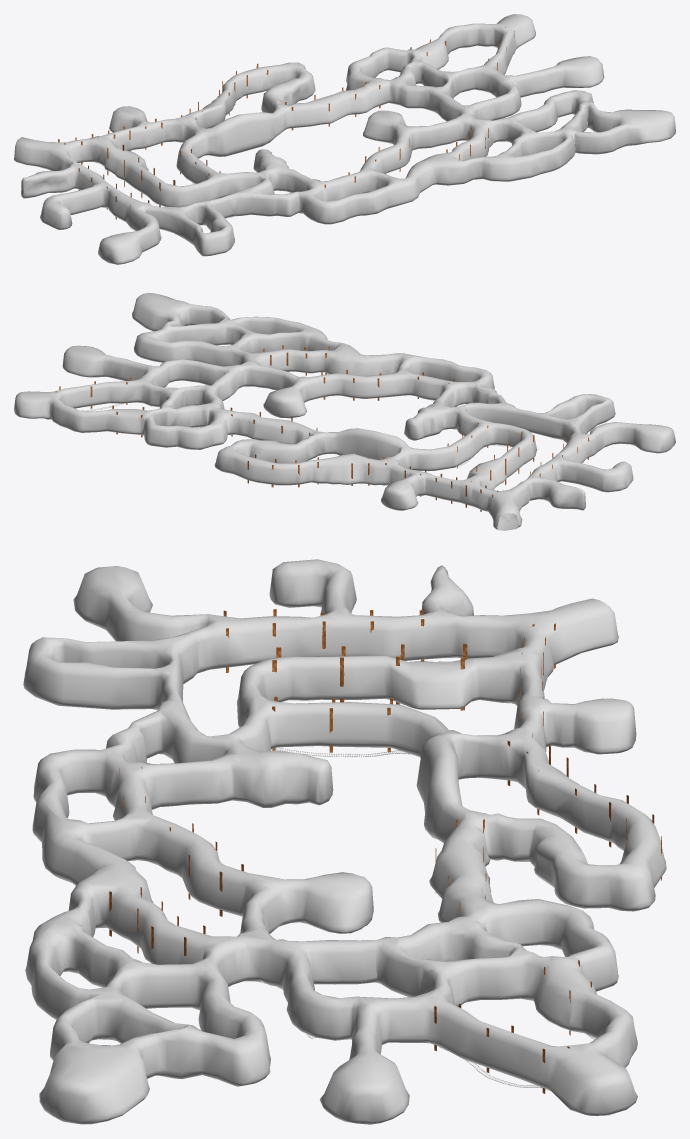
Rendered from MapaNuevoPrueba.fbx.
3 renders of one model, top to bottom at view 1: azimuth 30°, elevation 25°; view 2: azimuth 150°, elevation 25°; view 3: azimuth 270°, elevation 25°, orthographic. The views are drawn at different scales.
Visible parts, largest first — view 1: MAPA.001, Columnas; view 2: MAPA.001, Columnas; view 3: MAPA.001, Columnas.
Part boxes in pixels (<box>): MAPA.001: <box>14,14,675,264</box>; Columnas: <box>58,27,514,228</box>; MAPA.001: <box>14,293,675,530</box>; Columnas: <box>55,345,589,511</box>; MAPA.001: <box>23,559,666,1124</box>; Columnas: <box>109,609,661,1093</box>.
Bounding box in the file's own units: 4106 × 246 × 2081.
